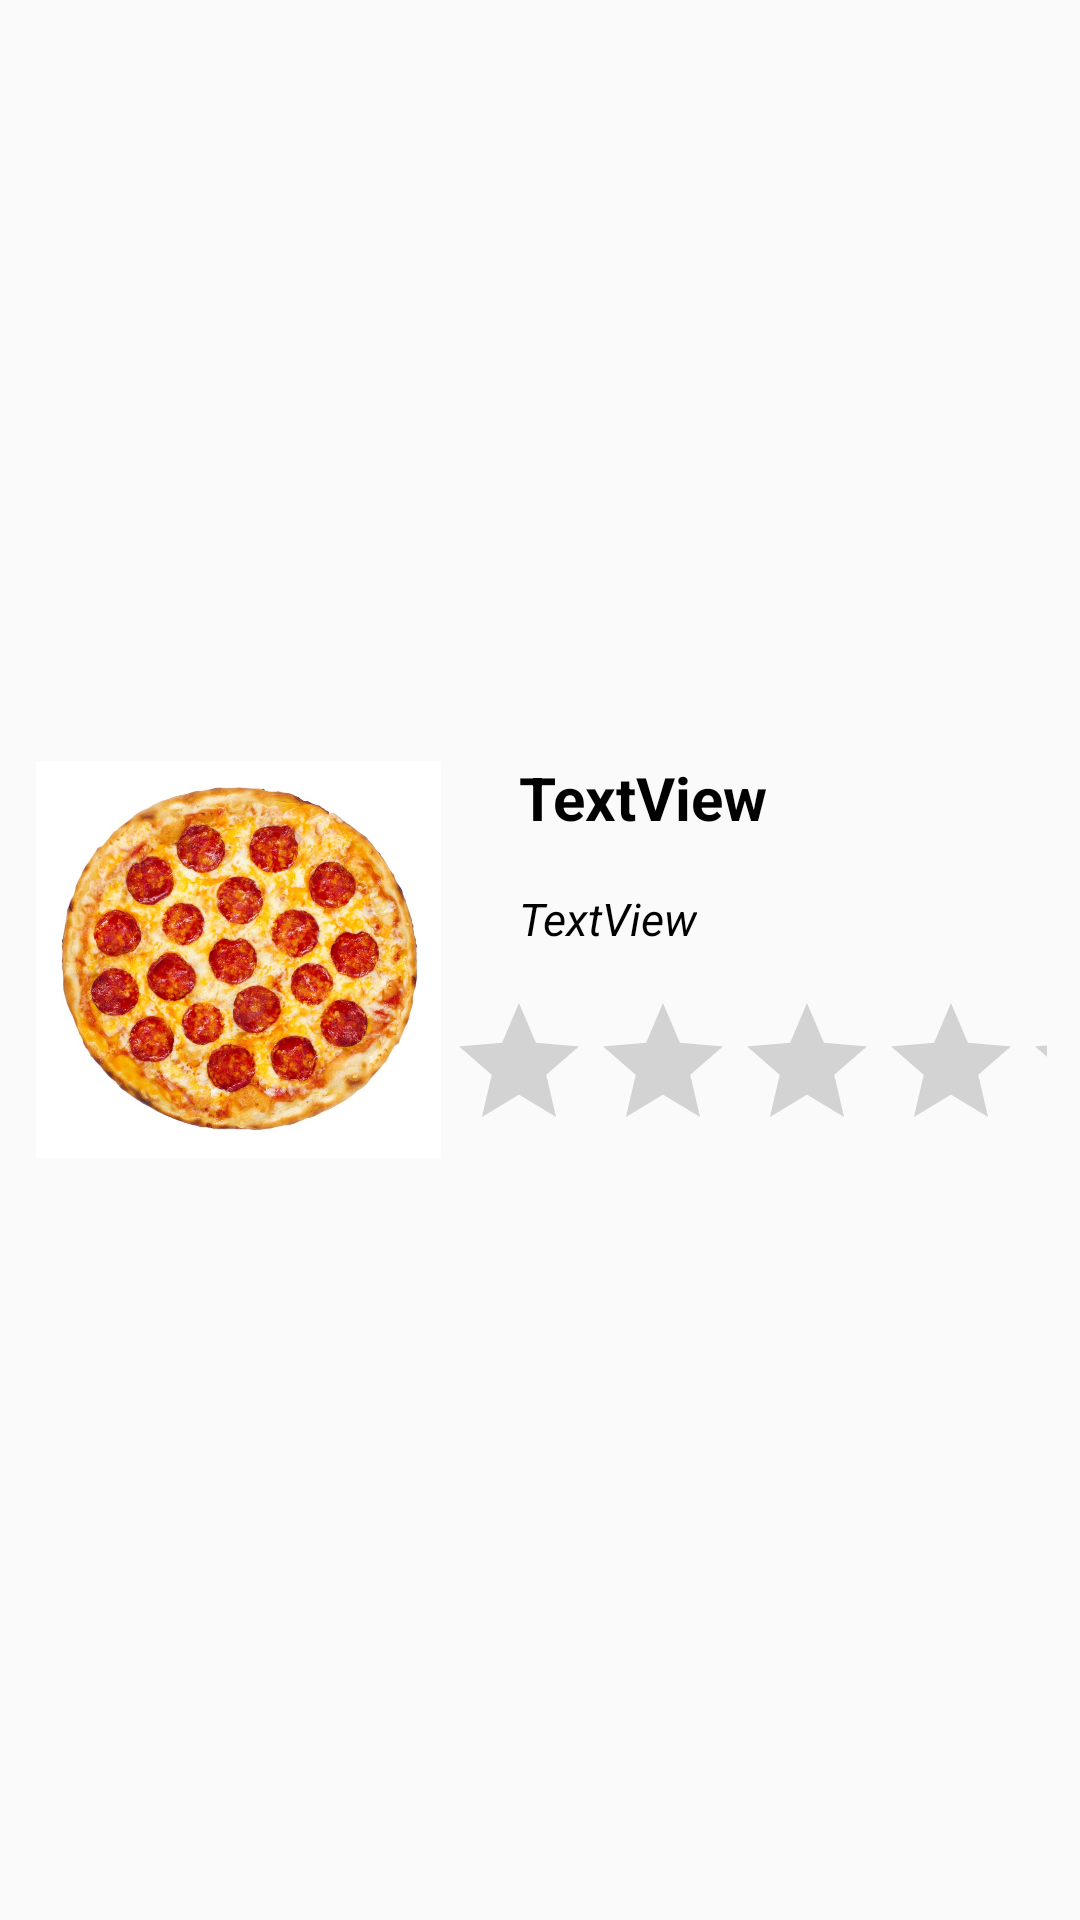

Where icons sit on this 1080w x 1920h app screen, as (x1, y1, x2, y2):
pizaa: (61, 787, 417, 1130)
